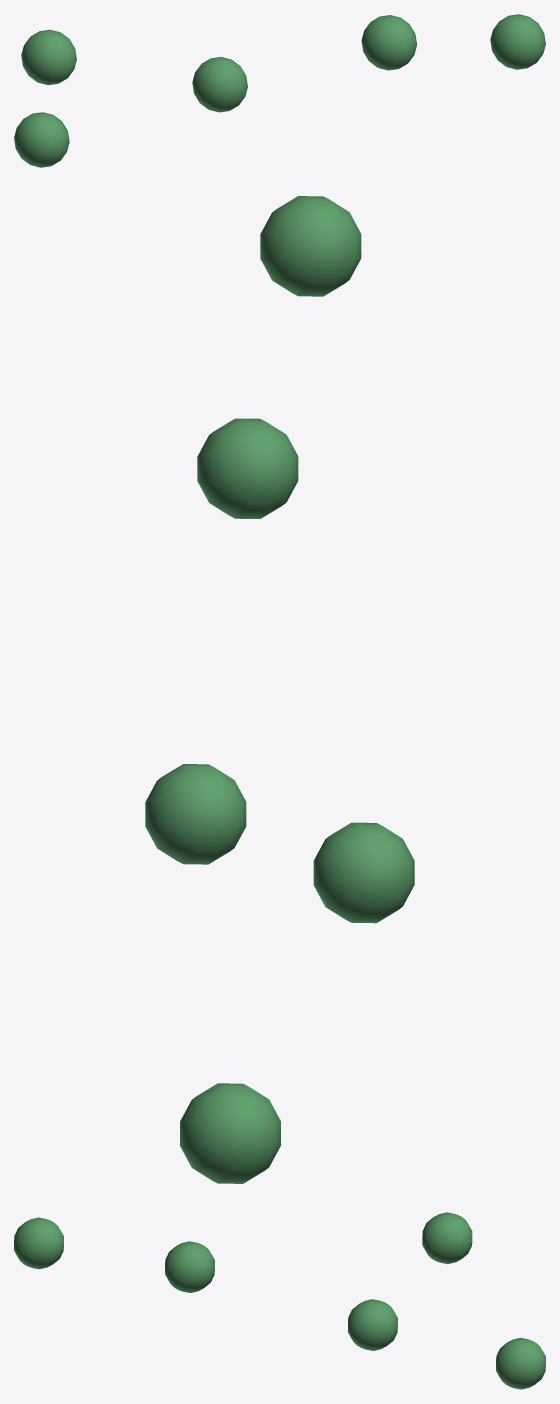
3 renders of one model, top to bottom at view 1: azimuth 30°, elevation 25°; view 2: azimuth 150°, elevation 25°; view 3: azimuth 270°, elevation 25°, orthographic. The views are drawn at different scales.
Visible parts, largest first — view 1: 左侧滑车上淋巴结; view 2: 左侧滑车上淋巴结; view 3: 左侧滑车上淋巴结.
Part boxes in pixels (x1,y1,x2,y2): 左侧滑车上淋巴结: (14, 14, 545, 167); 左侧滑车上淋巴结: (145, 196, 414, 1183); 左侧滑车上淋巴结: (14, 1212, 545, 1389).
Size of the model in its own units: 0.0235 by 0.0216 by 0.0392.
